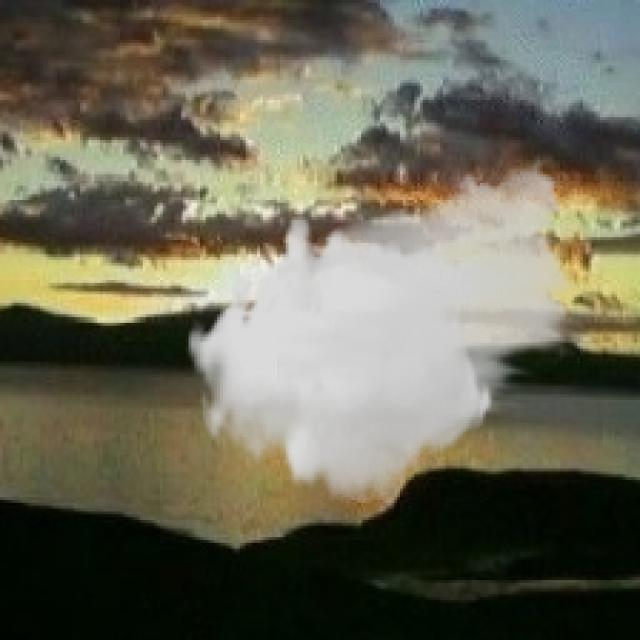smoke: (185, 151, 586, 503)
